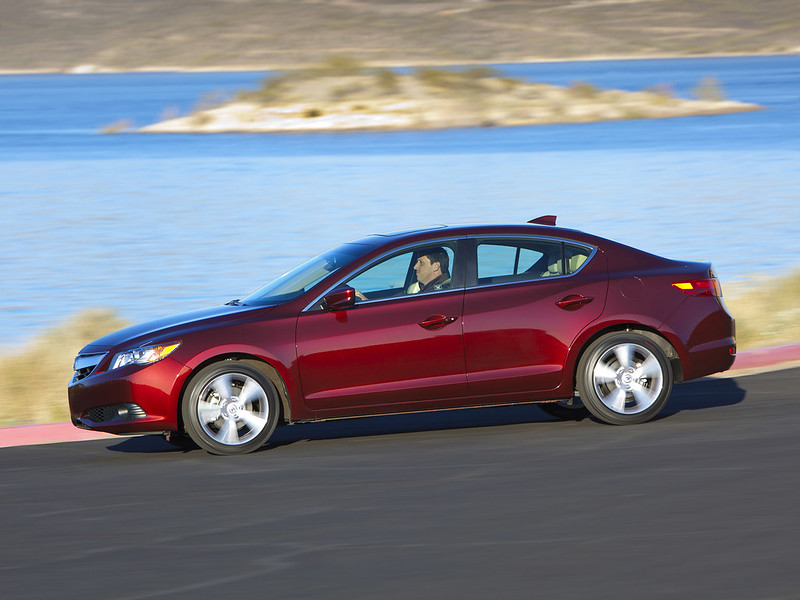car: (62, 209, 744, 457)
